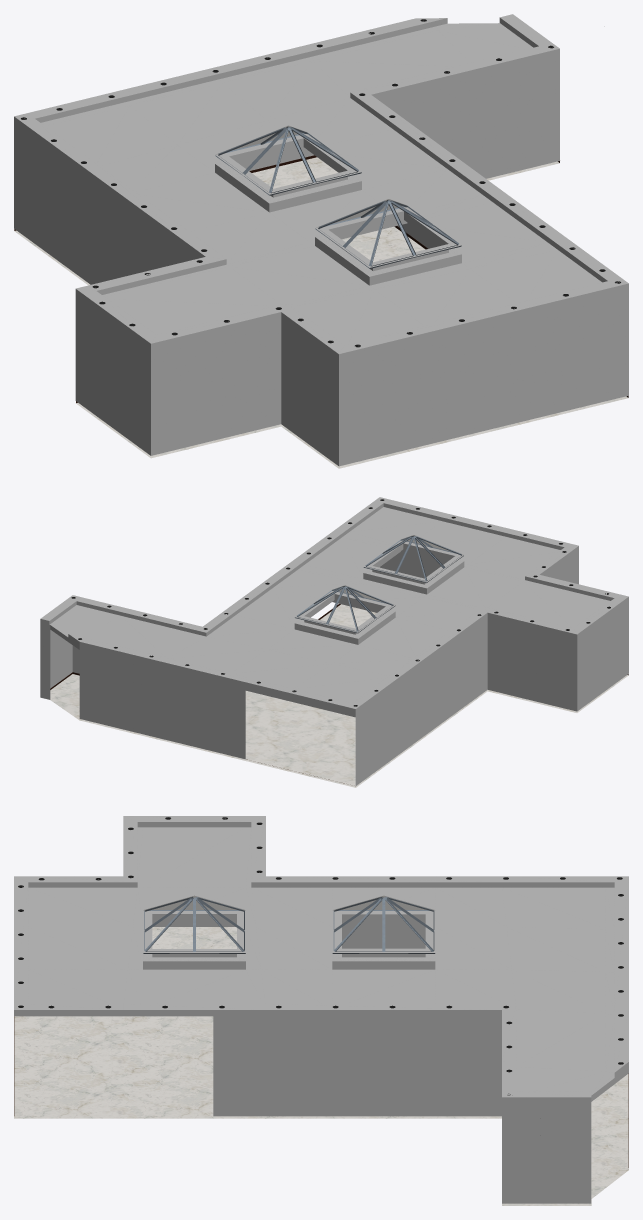
Rendered from showroom.fbx.
3 views of the same model, one above another, from view 1: azimuth 30°, elevation 25°; view 2: azimuth 150°, elevation 25°; view 3: azimuth 270°, elevation 25° (orthographic). The views are drawn at different scales.
Visible parts, largest first — view 1: Object_25, Object_25.002, Object_19, CeilingFrame, Object_10; view 2: Object_25, Object_25.002, Object_19, CeilingFrame; view 3: Object_25, Object_25.002, Object_19, CeilingFrame, CeilingGlass, Object_10.
Boxes of the visible parts, x1,y1,x2,y2 form: Object_25: [14, 14, 628, 353]; Object_25.002: [14, 48, 628, 466]; Object_19: [14, 157, 628, 468]; CeilingFrame: [215, 126, 461, 268]; Object_10: [21, 19, 620, 347]; Object_25: [40, 497, 628, 708]; Object_25.002: [40, 546, 628, 785]; Object_19: [45, 604, 628, 787]; CeilingFrame: [295, 535, 463, 633]; Object_25: [14, 816, 628, 1097]; Object_25.002: [14, 927, 628, 1203]; Object_19: [14, 927, 628, 1205]; CeilingFrame: [143, 896, 435, 953]; CeilingGlass: [146, 896, 432, 909]; Object_10: [18, 817, 623, 1095].
Bounding box in the file's own units: 2418 × 565 × 2018.
